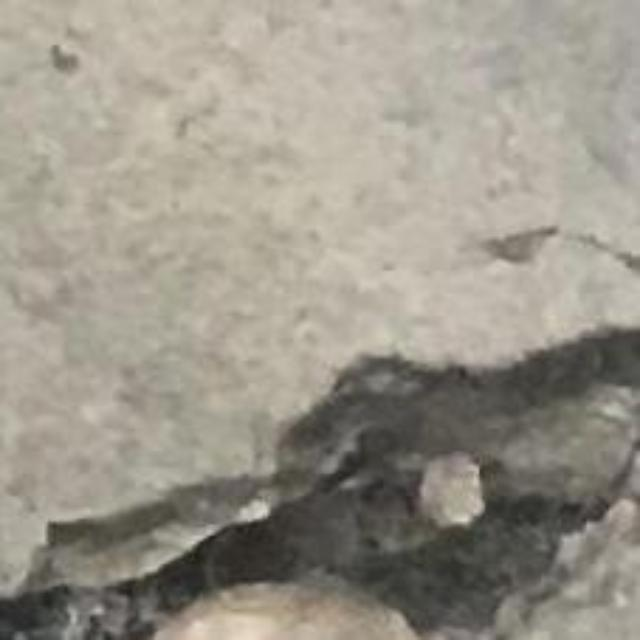crack: (23, 316, 639, 639)
